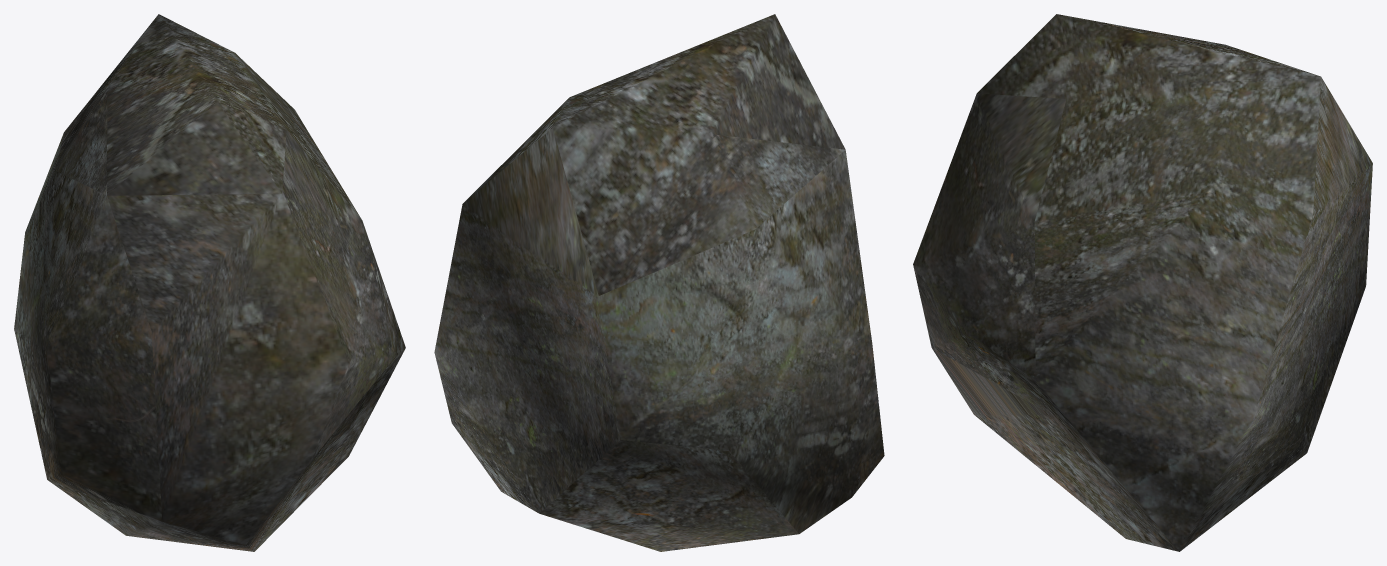
File: Rock.001-LOD1.fbx
3 views of the same model, side by side, from view 1: azimuth 30°, elevation 25°; view 2: azimuth 150°, elevation 25°; view 3: azimuth 270°, elevation 25° (orthographic). The views are drawn at different scales.
Parts seen in each view (by area): view 1: Rock.010; view 2: Rock.010; view 3: Rock.010.
Part boxes in pixels (<box>): Rock.010: <box>14,14,405,551</box>; Rock.010: <box>434,14,884,551</box>; Rock.010: <box>913,14,1372,551</box>.
Size of the model in its own units: 122 by 165 by 140.
